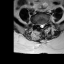CCS_stenosis: (41, 21, 43, 29)
LFS_normal: (45, 20, 47, 27)
LLS_normal: (43, 21, 45, 28)
RFS_stenosis: (37, 21, 39, 27)
RLS_normal: (39, 21, 41, 28)
